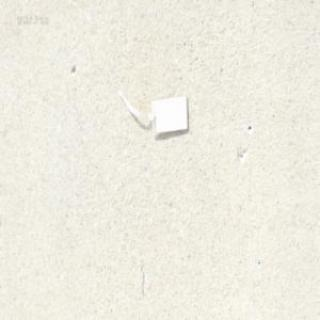LuggageTagtrack_idkeyframe: (116, 75, 192, 136)
